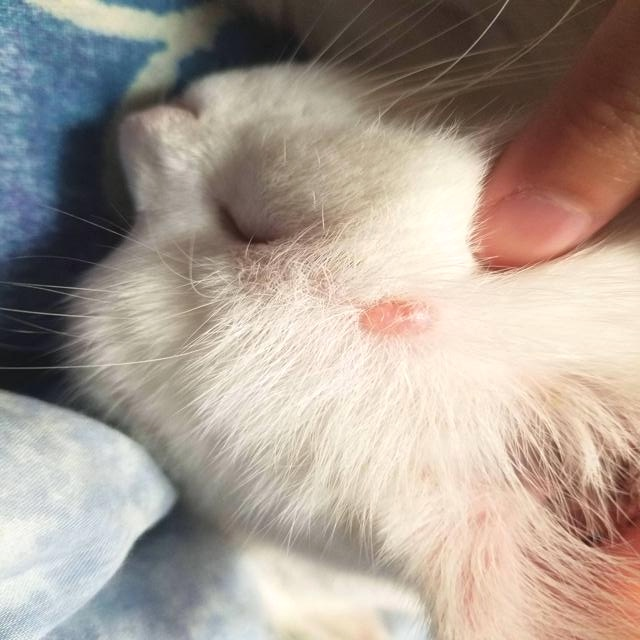lump_and_bump: (360, 299, 432, 336)
